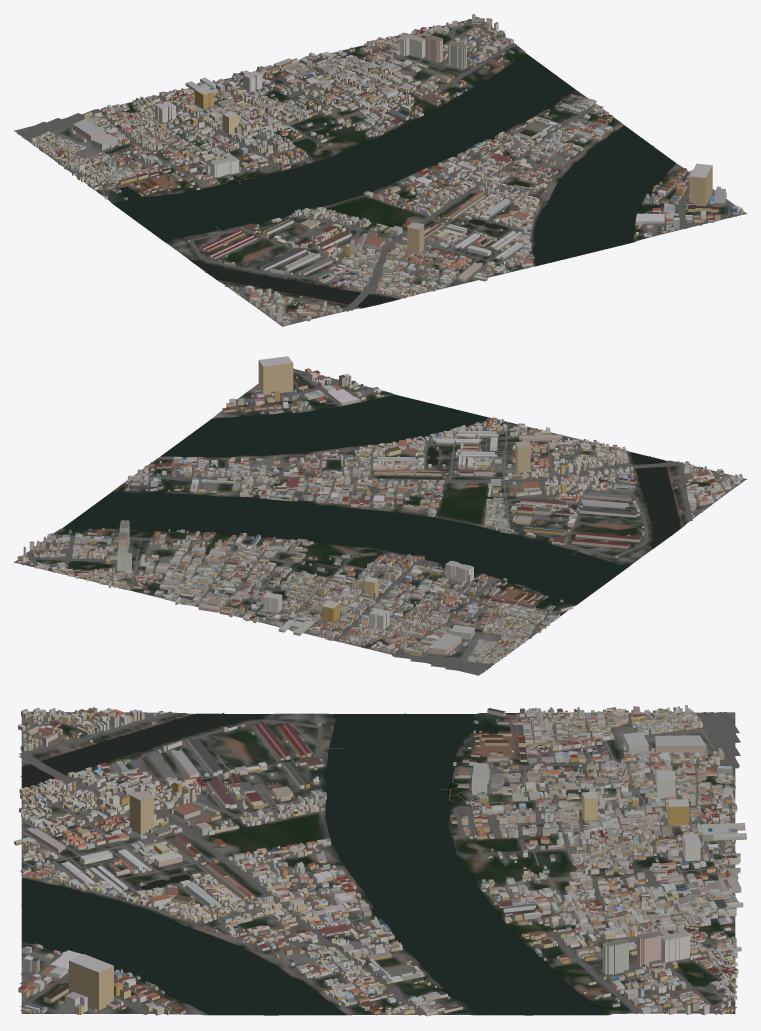
3 renders of one model, top to bottom at view 1: azimuth 30°, elevation 25°; view 2: azimuth 150°, elevation 25°; view 3: azimuth 270°, elevation 25°, orthographic. The views are drawn at different scales.
Parts seen in each view (by area): view 1: buildings, water, ground, roads; view 2: buildings, ground, water, roads; view 3: buildings, water, ground, roads.
Boxes of the visible parts, <box> form: buildings: <box>30,14,743,325</box>; water: <box>97,54,675,307</box>; ground: <box>14,20,746,326</box>; roads: <box>17,19,736,323</box>; buildings: <box>17,356,742,664</box>; ground: <box>14,369,746,675</box>; water: <box>63,394,680,614</box>; roads: <box>21,368,740,673</box>; buildings: <box>14,705,746,1016</box>; water: <box>21,713,605,1015</box>; ground: <box>21,712,735,1015</box>; roads: <box>19,711,740,1015</box>.
Size of the model in its own units: 1413 by 88.68 by 1439.
